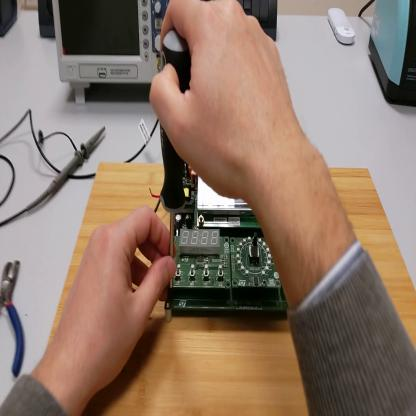hand: (154, 1, 302, 201), (59, 207, 176, 390)
low voltage board: (150, 166, 290, 315)
oscilloscope: (54, 2, 166, 104)
oscilloscope probe tip: (26, 128, 105, 209)
pliers: (2, 257, 27, 379)
screwdriver-: (160, 31, 192, 308)
socket: (37, 1, 59, 39), (1, 1, 20, 40)
welder station: (368, 1, 416, 109)
working area: (45, 162, 416, 416)
